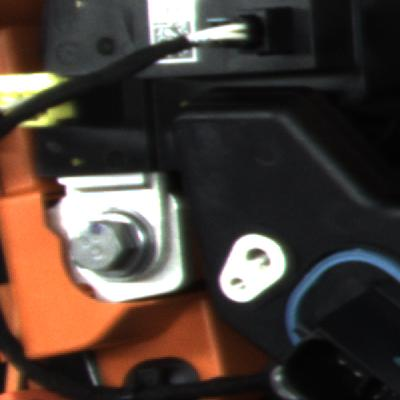nut_b: (56, 201, 159, 282)
